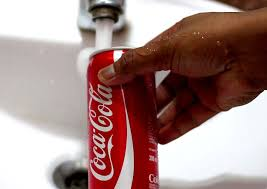coke: (84, 48, 160, 189)
